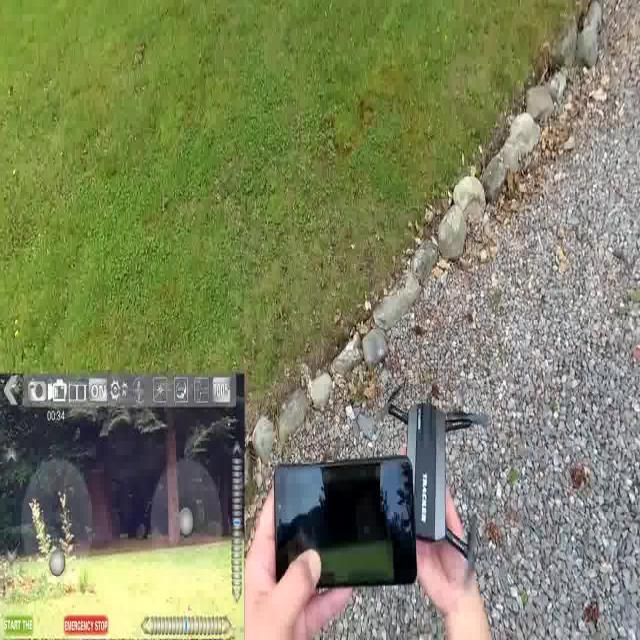drones: (372, 374, 494, 592)
